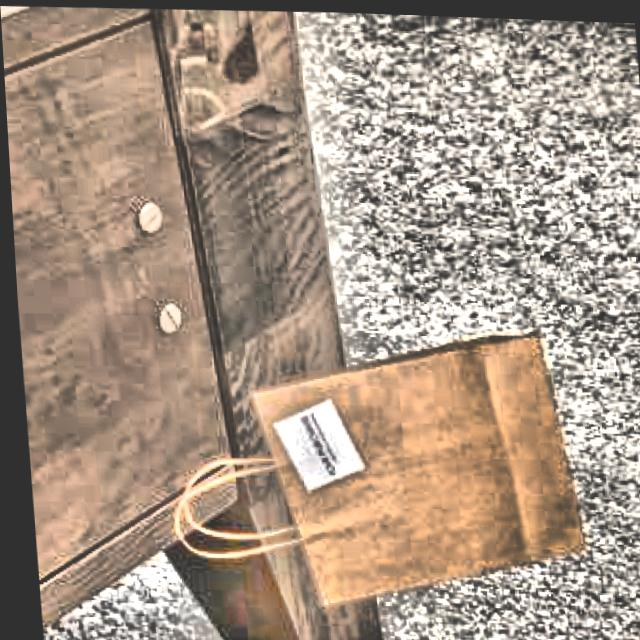Paper-bag: (153, 295, 617, 632)
